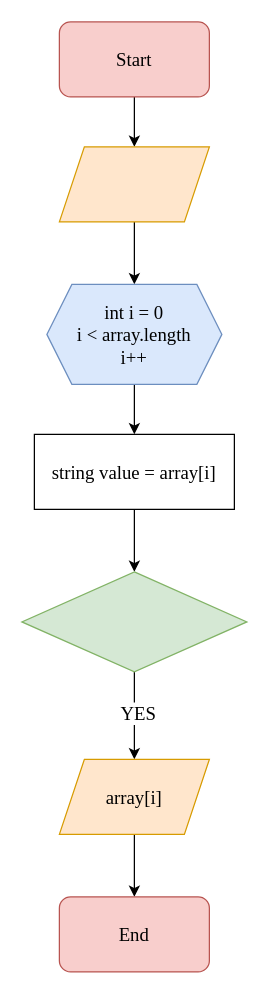
The diagram is 269 pixels wide and 994 high, and some of its shapes have lost their labels. Each missing label, with the centre of its shape:
string[] array: (x=133, y=184)
value.Length <= 3: (x=134, y=621)
